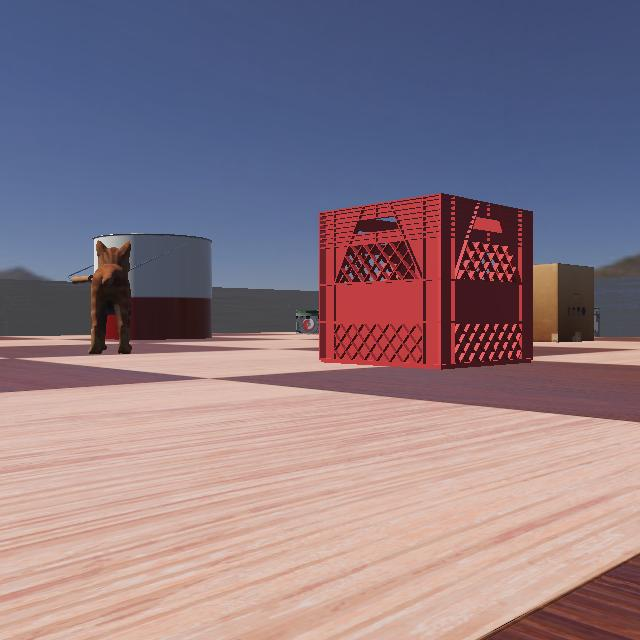cardboard-box: (478, 262, 614, 342), (478, 262, 614, 342)
cat: (34, 218, 158, 358), (34, 218, 158, 358), (34, 218, 158, 358), (34, 218, 158, 358)
paint-bucket: (32, 228, 220, 342), (32, 228, 220, 342), (32, 228, 220, 342)
plastic-crate: (318, 192, 568, 370)
